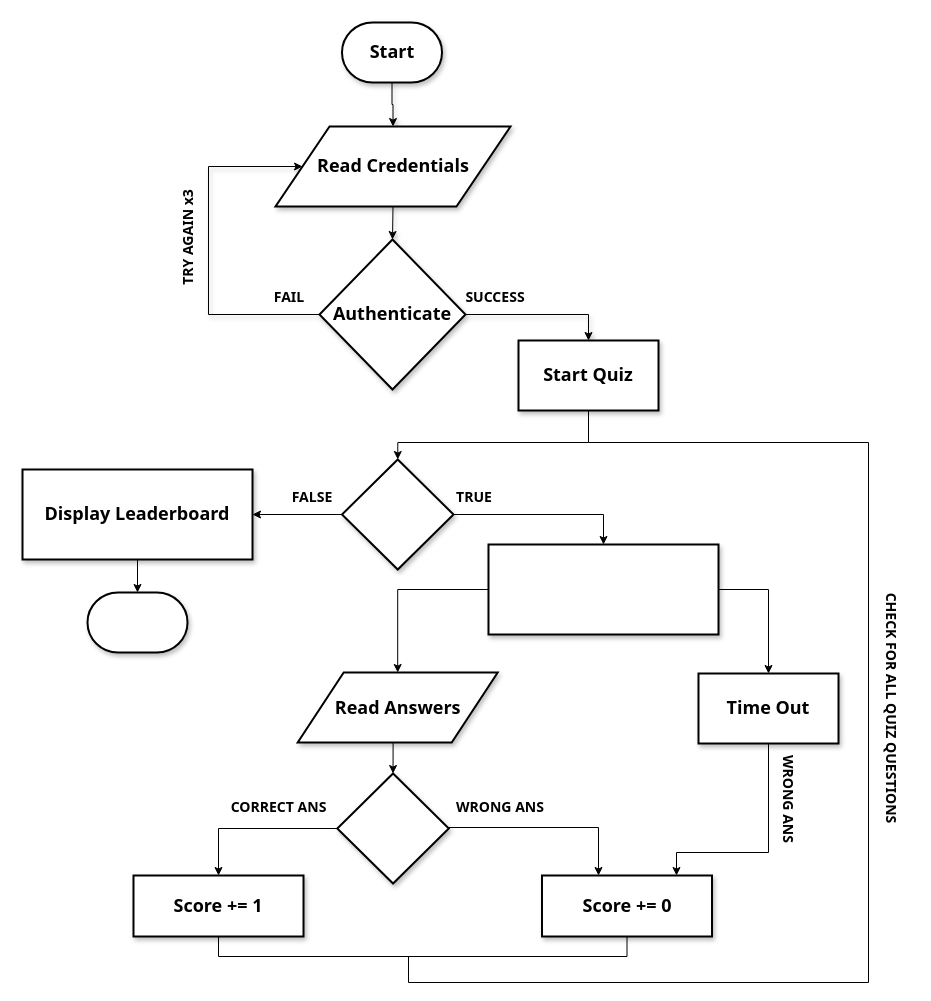
Some shapes in this 931 by 1001 pixel diagram are drawn without their labels. The centre of each missing label's shape, as x and y in pixels:
"Correct?" belongs at (x=393, y=829).
"Cx < 5" belongs at (x=398, y=515).
"Display Question" belongs at (x=604, y=590).
"End" belongs at (x=138, y=623).
